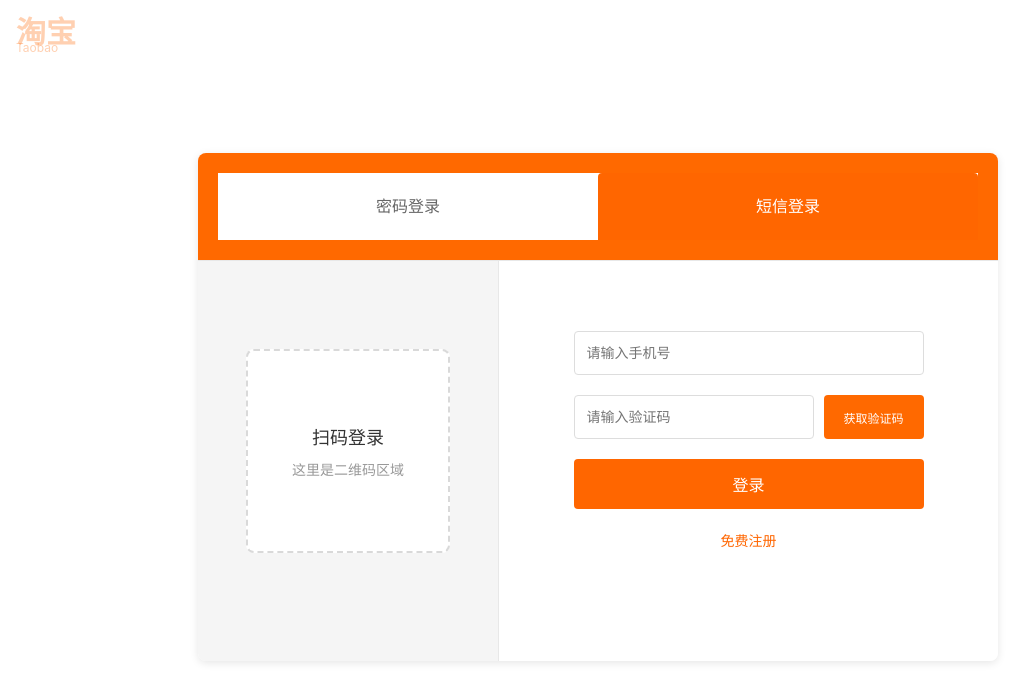
Test case: LoginForm › 登录时应该显示加载状态，按钮变为不可点击
Note: 填写手机号并发送验证码
In the field with placeholder "请输入手机号": (748,353) [574,331,924,375], type "13800138000"
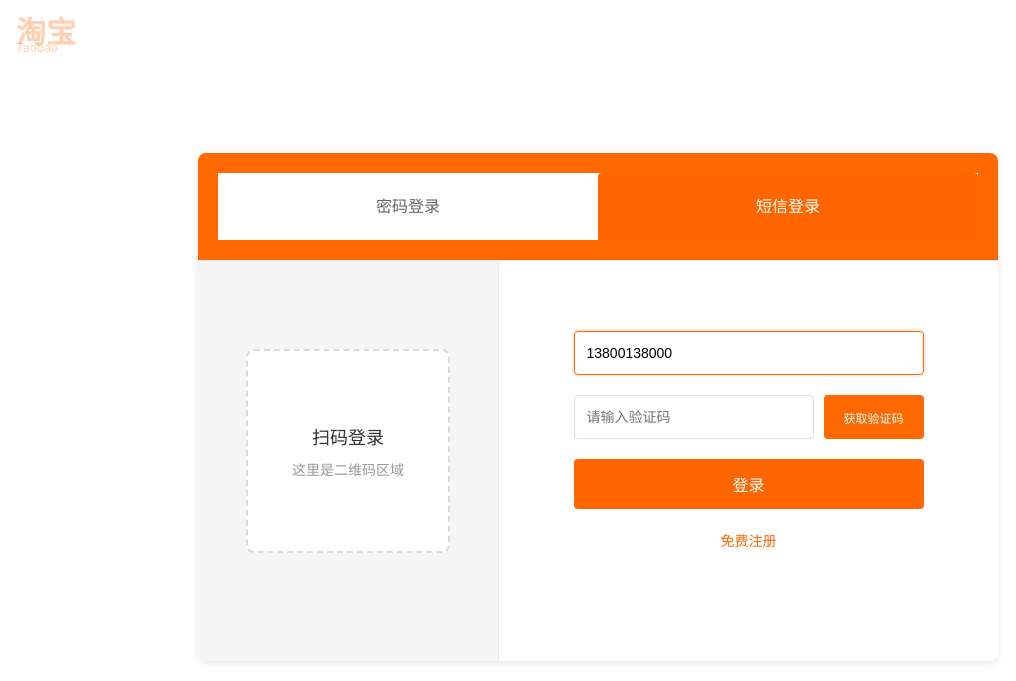
Click the button "获取验证码": (874,417) [824,395,924,439]
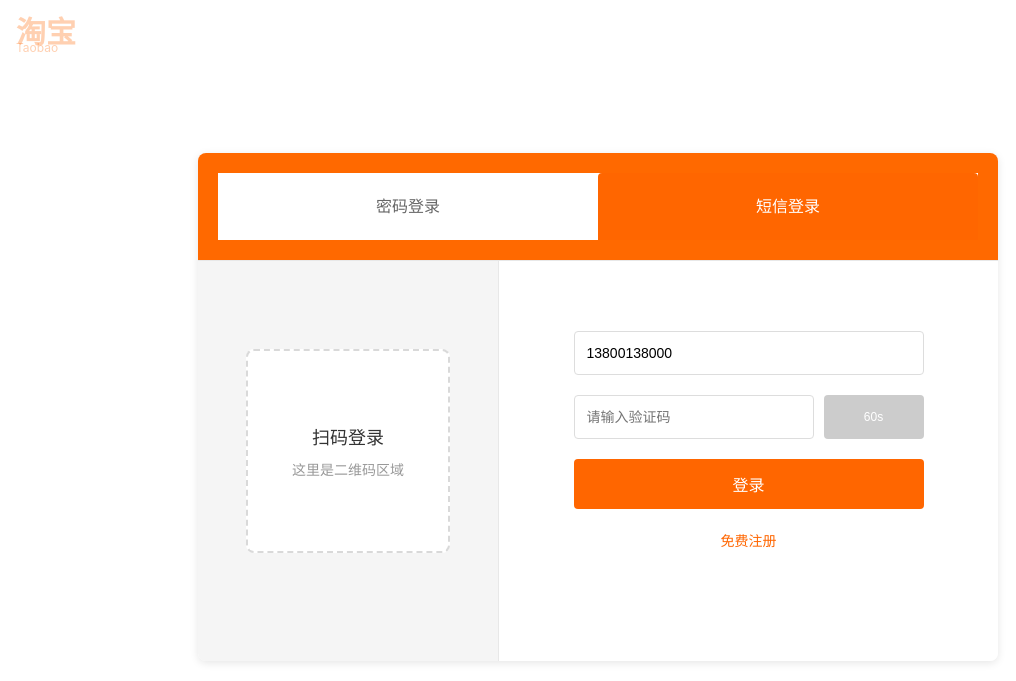
expect the button "60s" is shown: met, box [824,395,924,439]
In the field with placeholder "请输入验证码": (694,417) [574,395,814,439], type "123456"
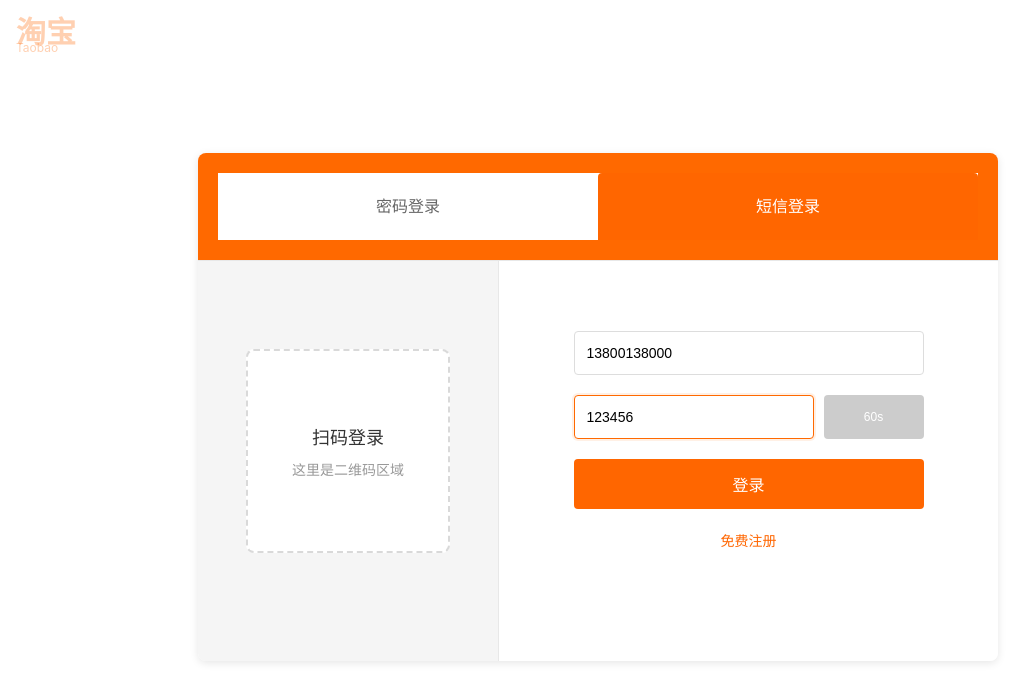
Click the button "登录": (748,484) [574,459,924,509]
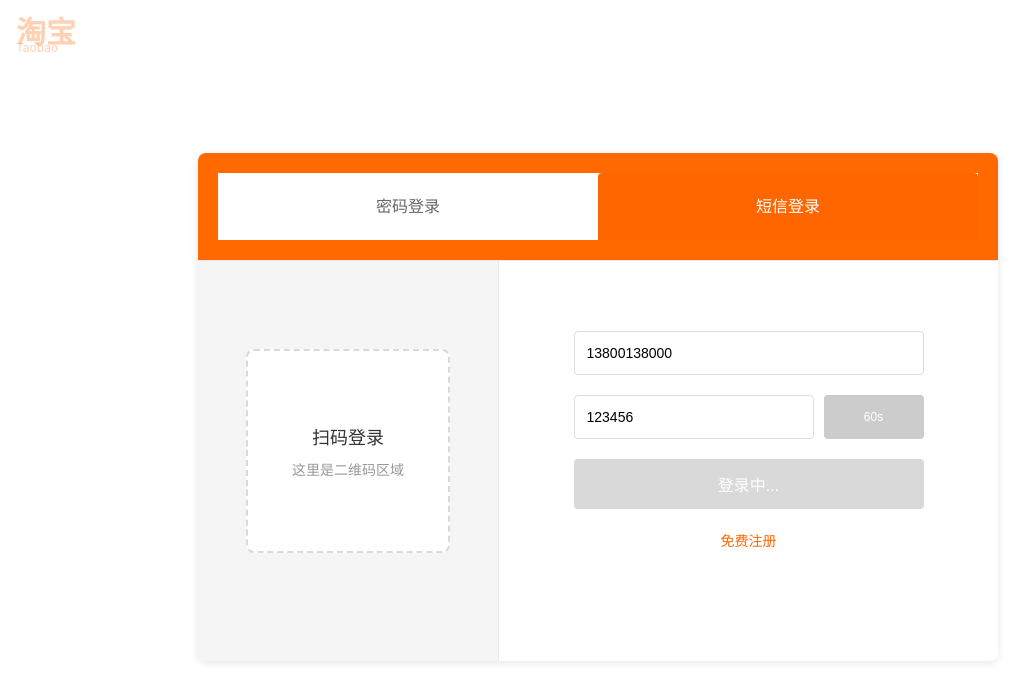
expect the button "登录中..." is disabled: met, box [574,459,924,509]
